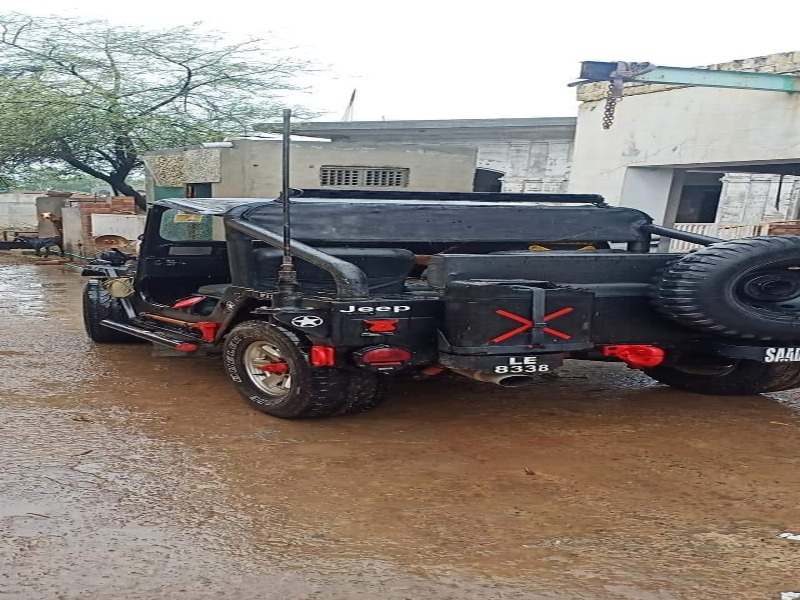License Plate: (476, 352, 571, 388)
